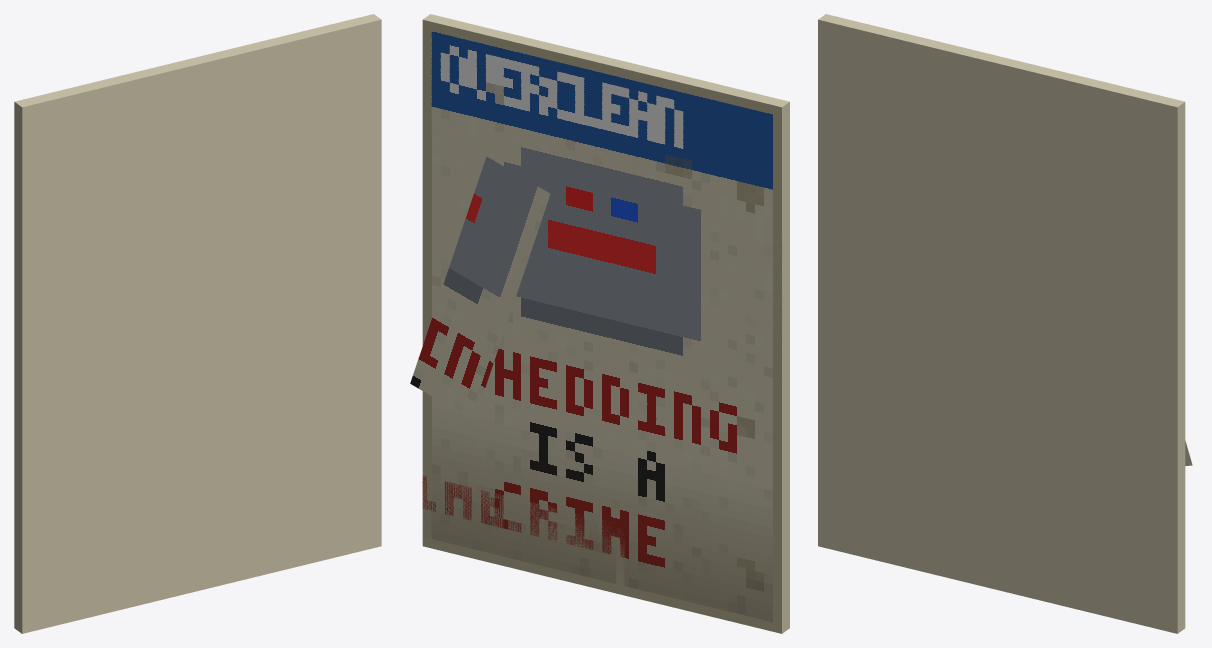
The model's file is overclean_poster.glb.
The picture shows the model from 3 angles, left to right: view 1: azimuth 30°, elevation 25°; view 2: azimuth 150°, elevation 25°; view 3: azimuth 330°, elevation 25°; orthographic projection.
Parts seen in each view (by area): view 1: Poster; view 2: Poster, Torn; view 3: Poster.
Part boxes in pixels (<box>): Poster: <box>14,14,381,633</box>; Poster: <box>422,14,789,633</box>; Torn: <box>410,20,781,595</box>; Poster: <box>818,14,1185,633</box>.
Bounding box in the file's own units: 1.02 × 1.4 × 0.0625.
Materials: 1 (1 with a texture image).
